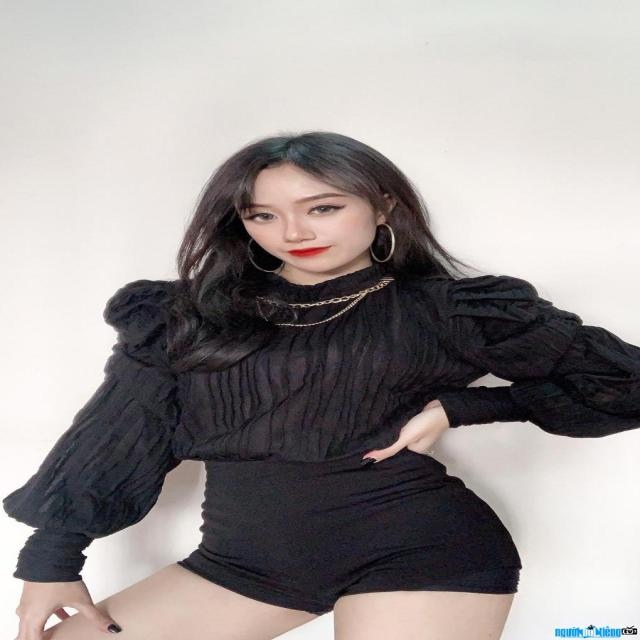clothes: (15, 263, 638, 614)
